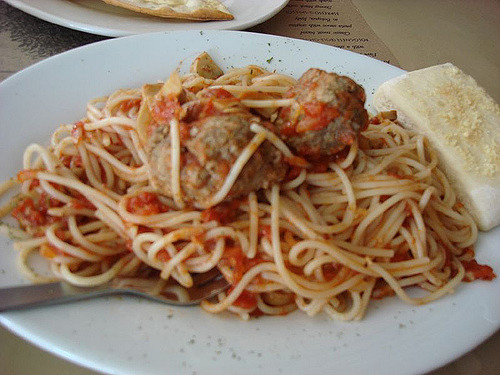meatballs: (150, 111, 292, 201), (274, 66, 369, 166)
plain spaghetti: (19, 193, 477, 321)
slice of bread: (378, 60, 500, 236)
